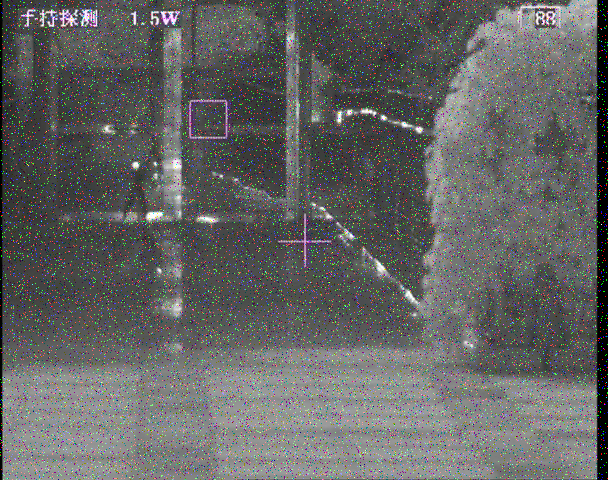my: (131, 160, 141, 170)
